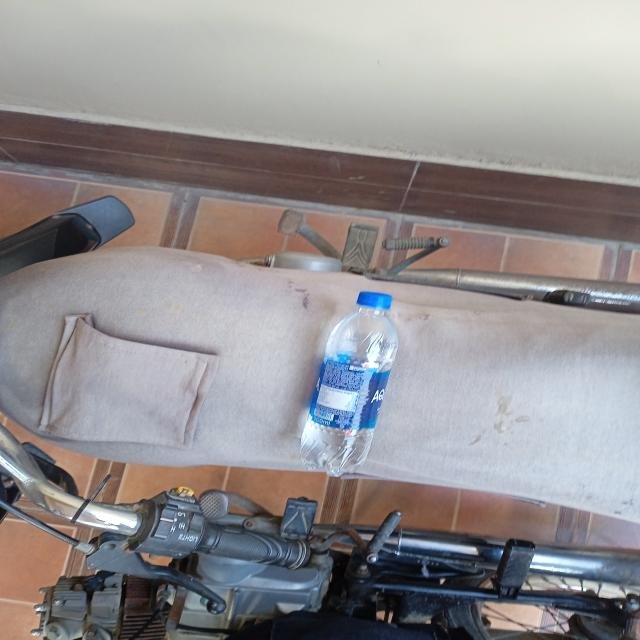Plastic: (304, 291, 401, 477)
